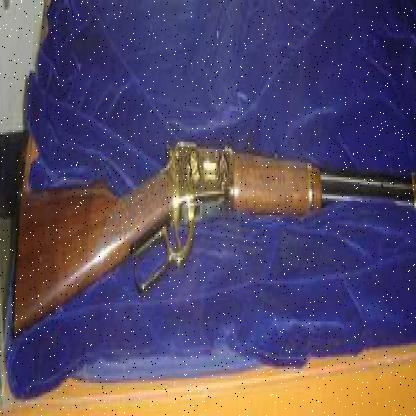rifle: (14, 42, 415, 324)
